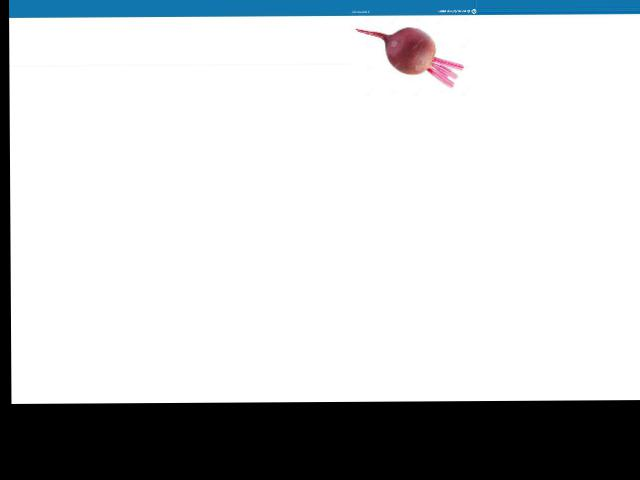beet: (356, 27, 462, 87)
